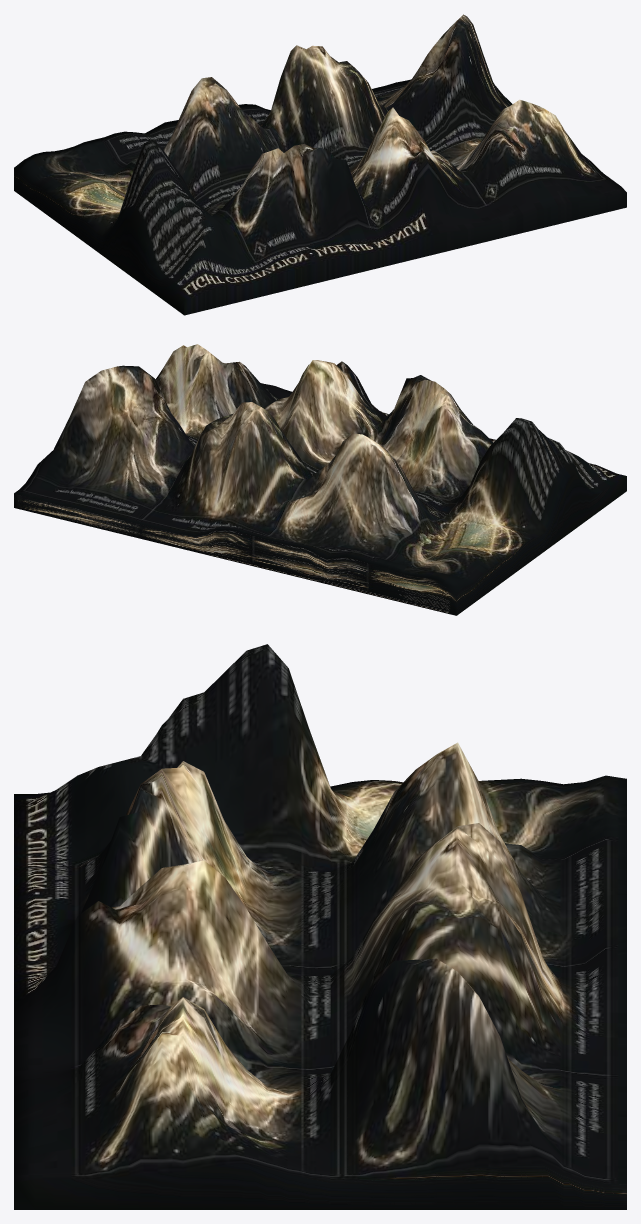
The model's file is CUL_29_Light.glb.
3 renders of one model, top to bottom at view 1: azimuth 30°, elevation 25°; view 2: azimuth 150°, elevation 25°; view 3: azimuth 270°, elevation 25°, orthographic. The views are drawn at different scales.
Visible parts, largest first — view 1: CUL_29_Light; view 2: CUL_29_Light; view 3: CUL_29_Light.
Part boxes in pixels (x1=…): CUL_29_Light: x1=14, y1=14, x2=626, y2=315; CUL_29_Light: x1=14, y1=344, x2=626, y2=615; CUL_29_Light: x1=14, y1=644, x2=626, y2=1209.
Bounding box in the file's own units: 2 × 0.51 × 1.33.
Materials: 1 (1 with a texture image).
